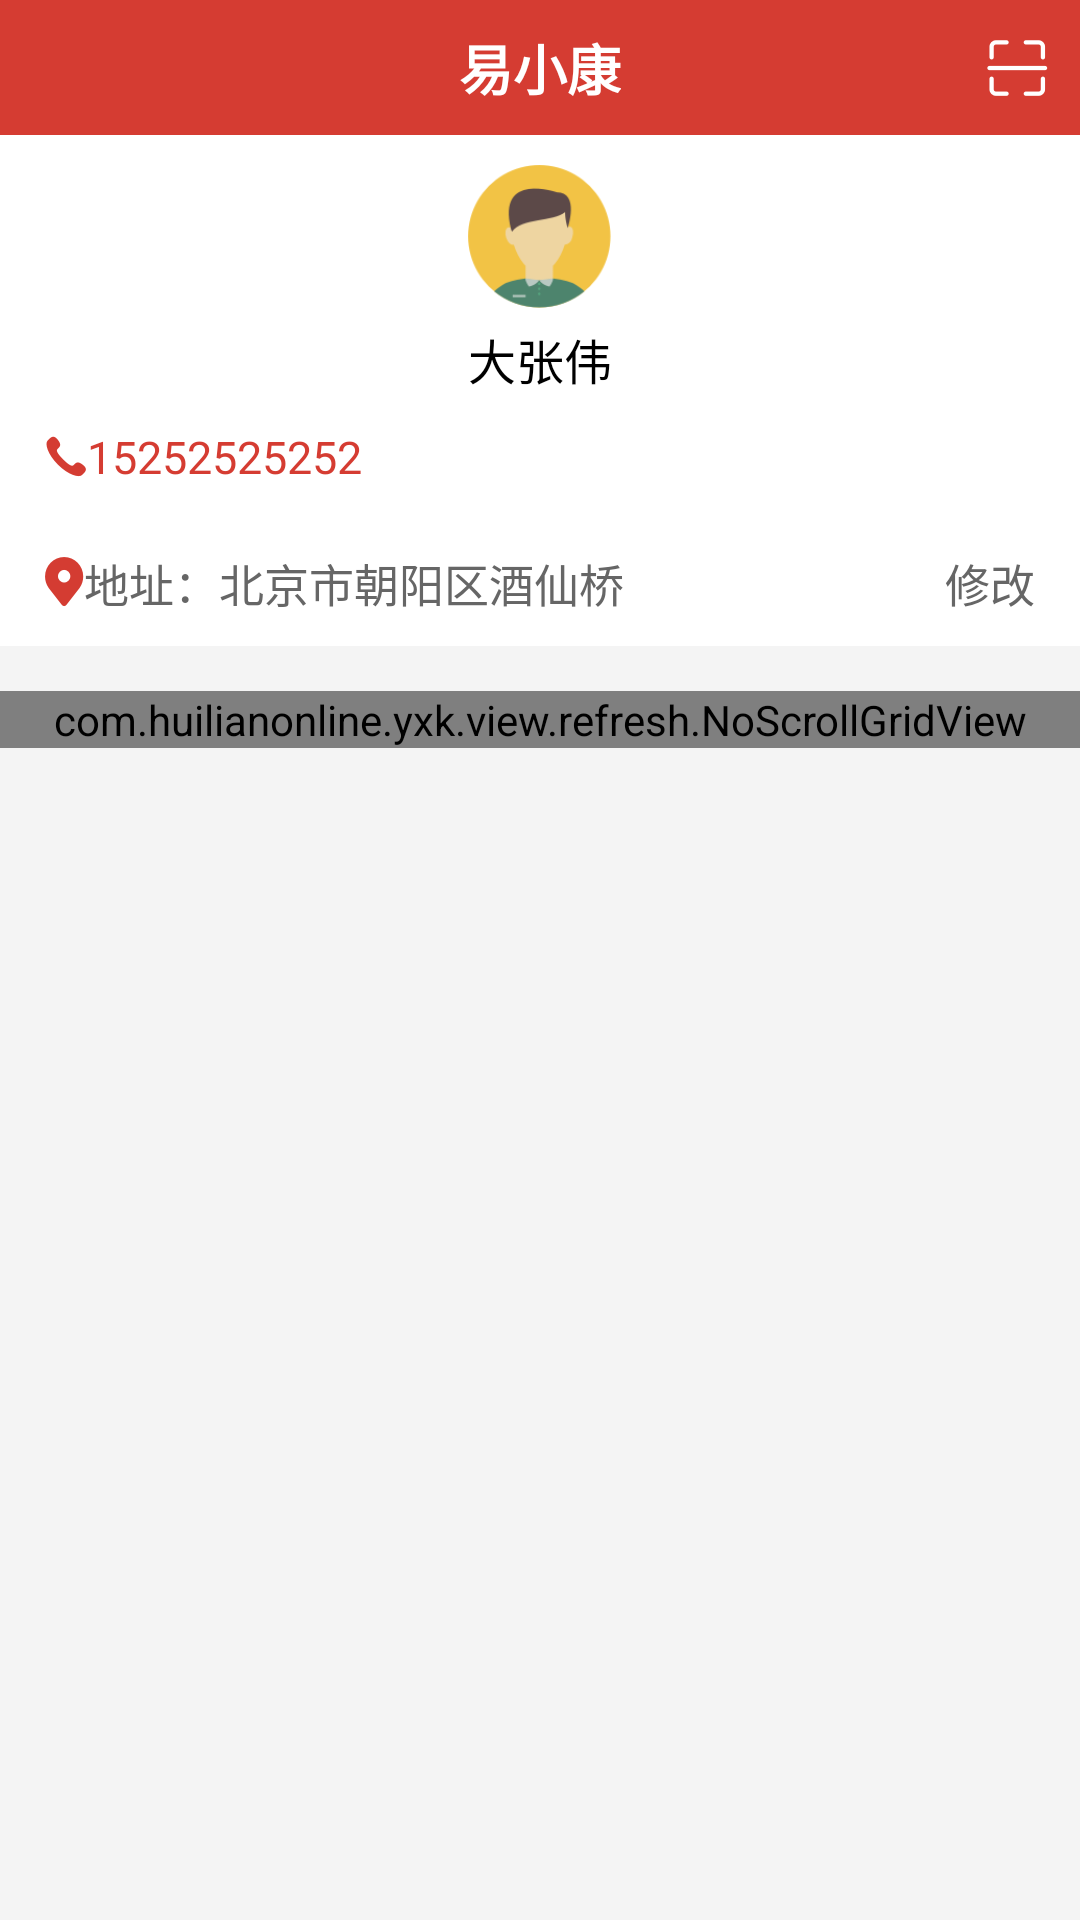

Named icons in this screenshot (1080×1920) and their bounding boxes, (x1, y1, x2, y2):
home saoyisao: (987, 40, 1047, 96)
user: (468, 165, 611, 308)
